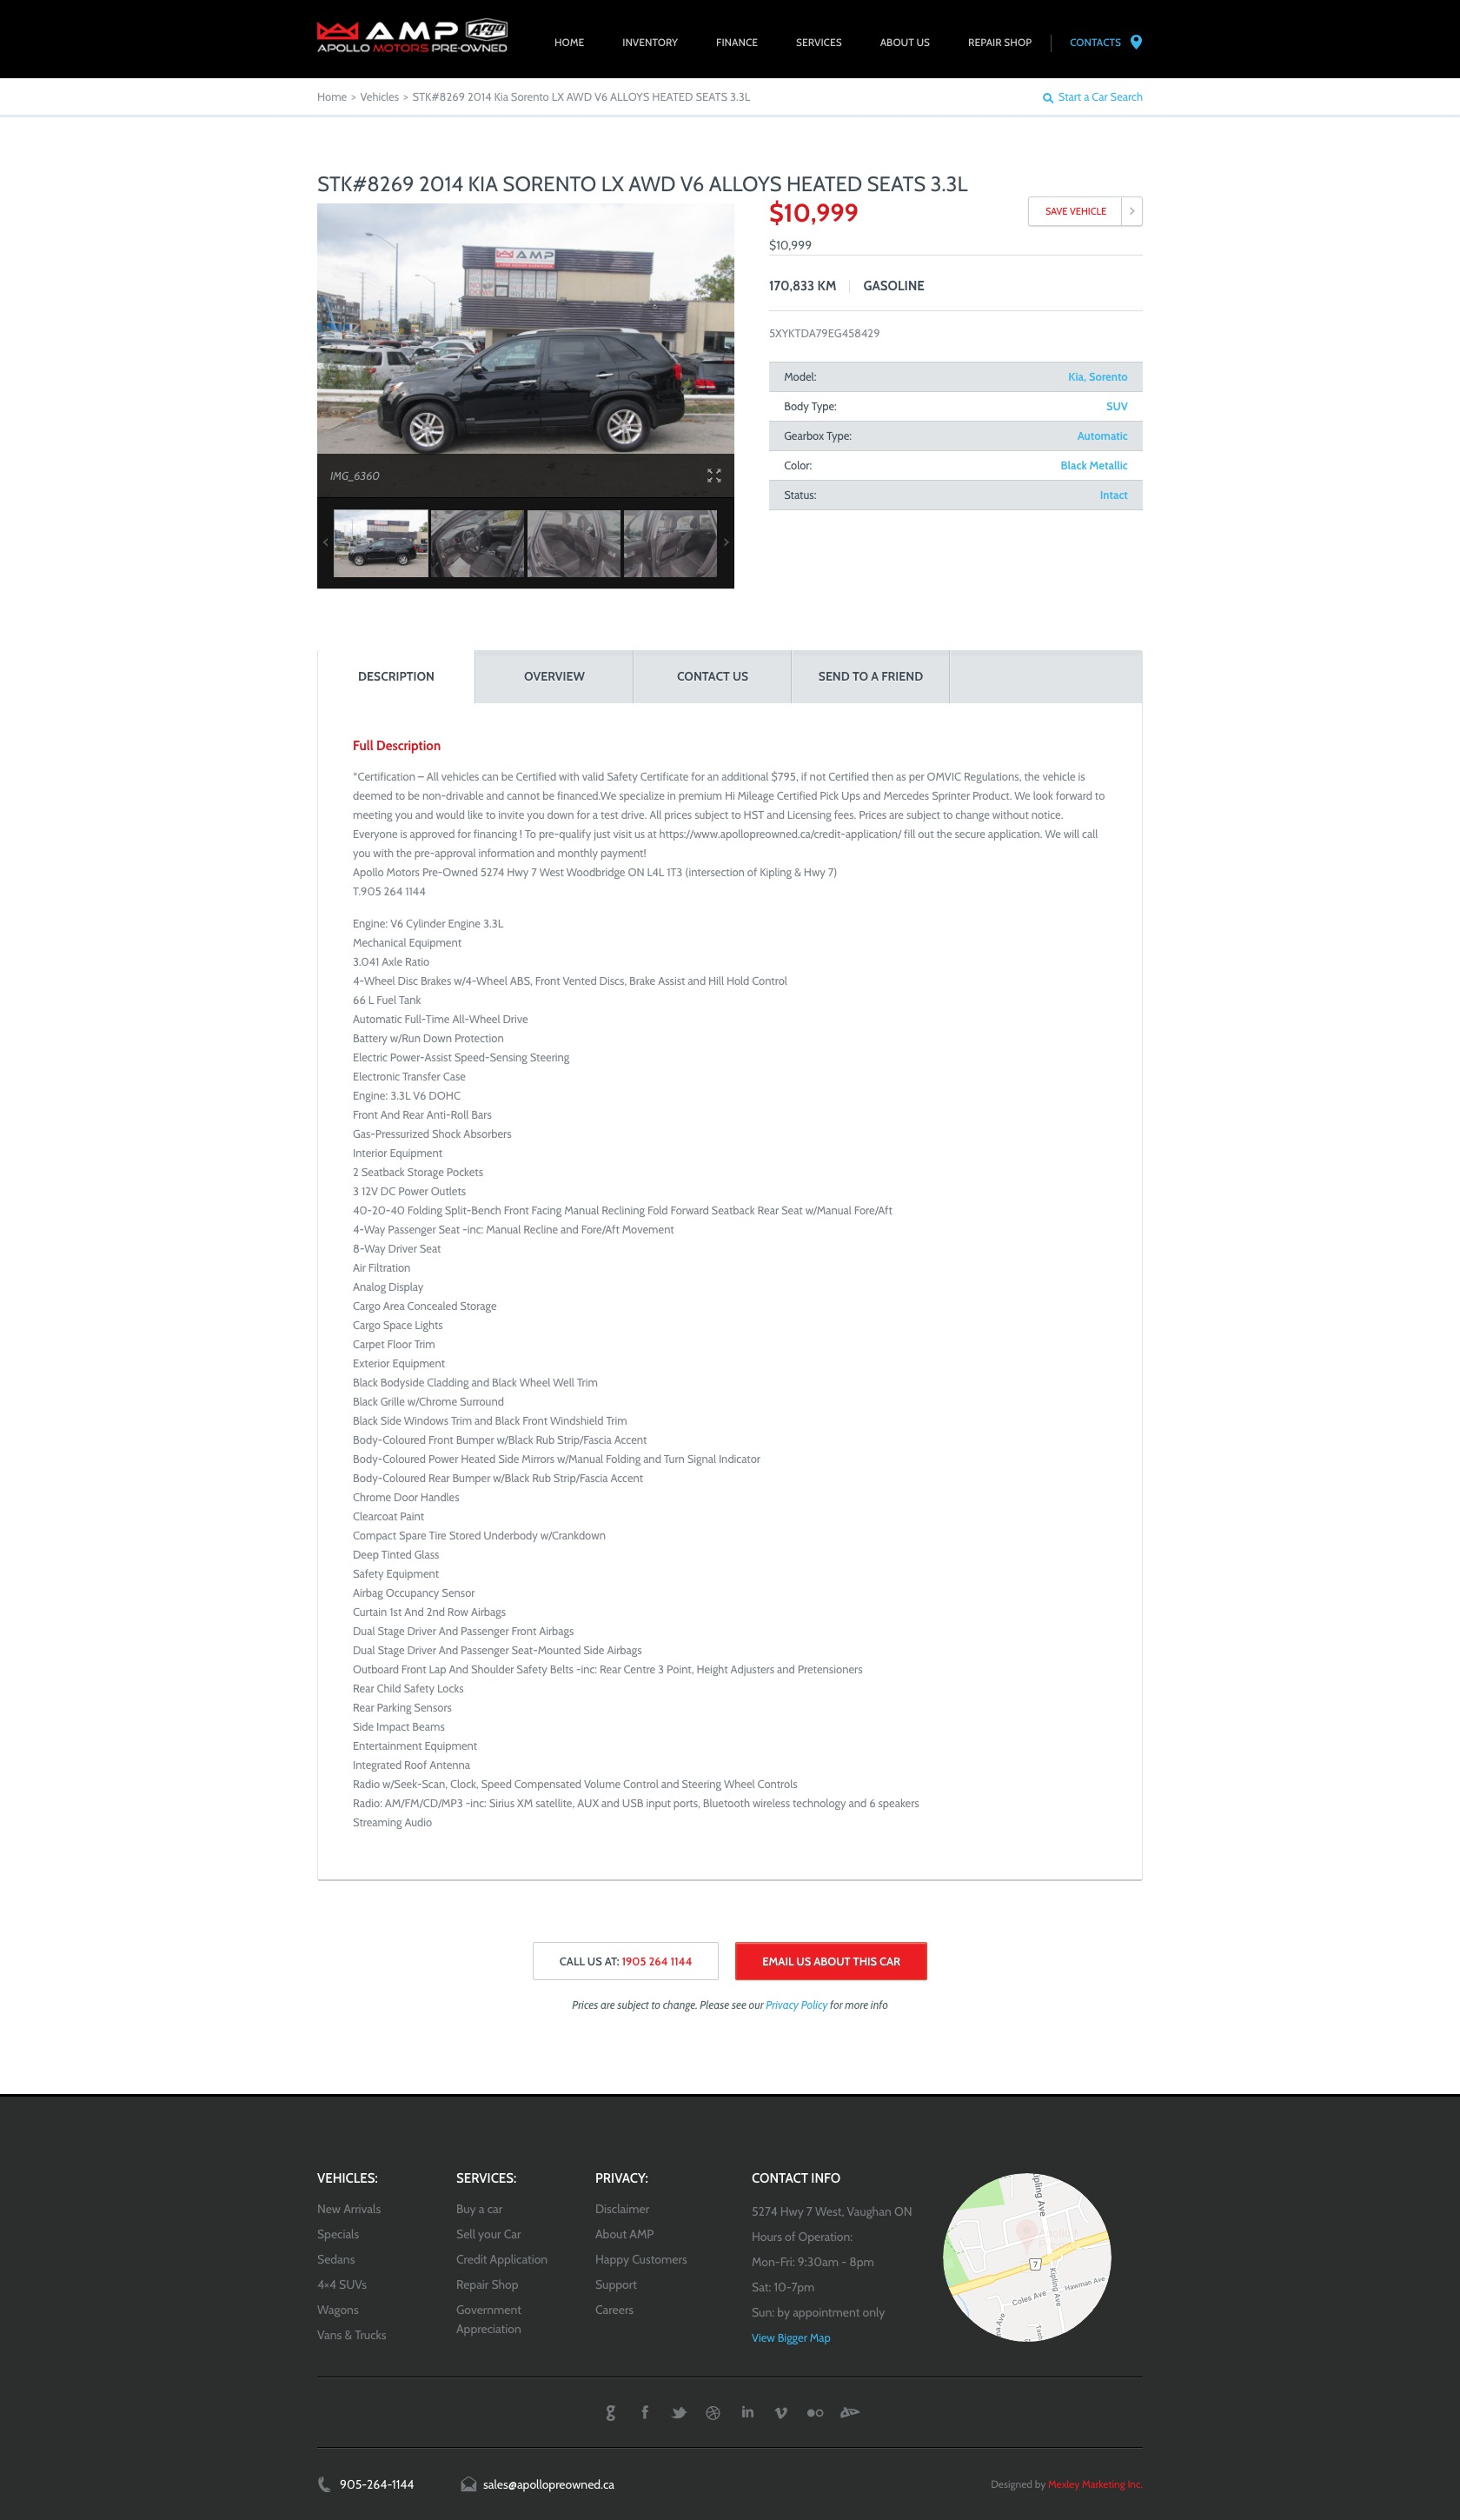car: (723, 537, 730, 551)
